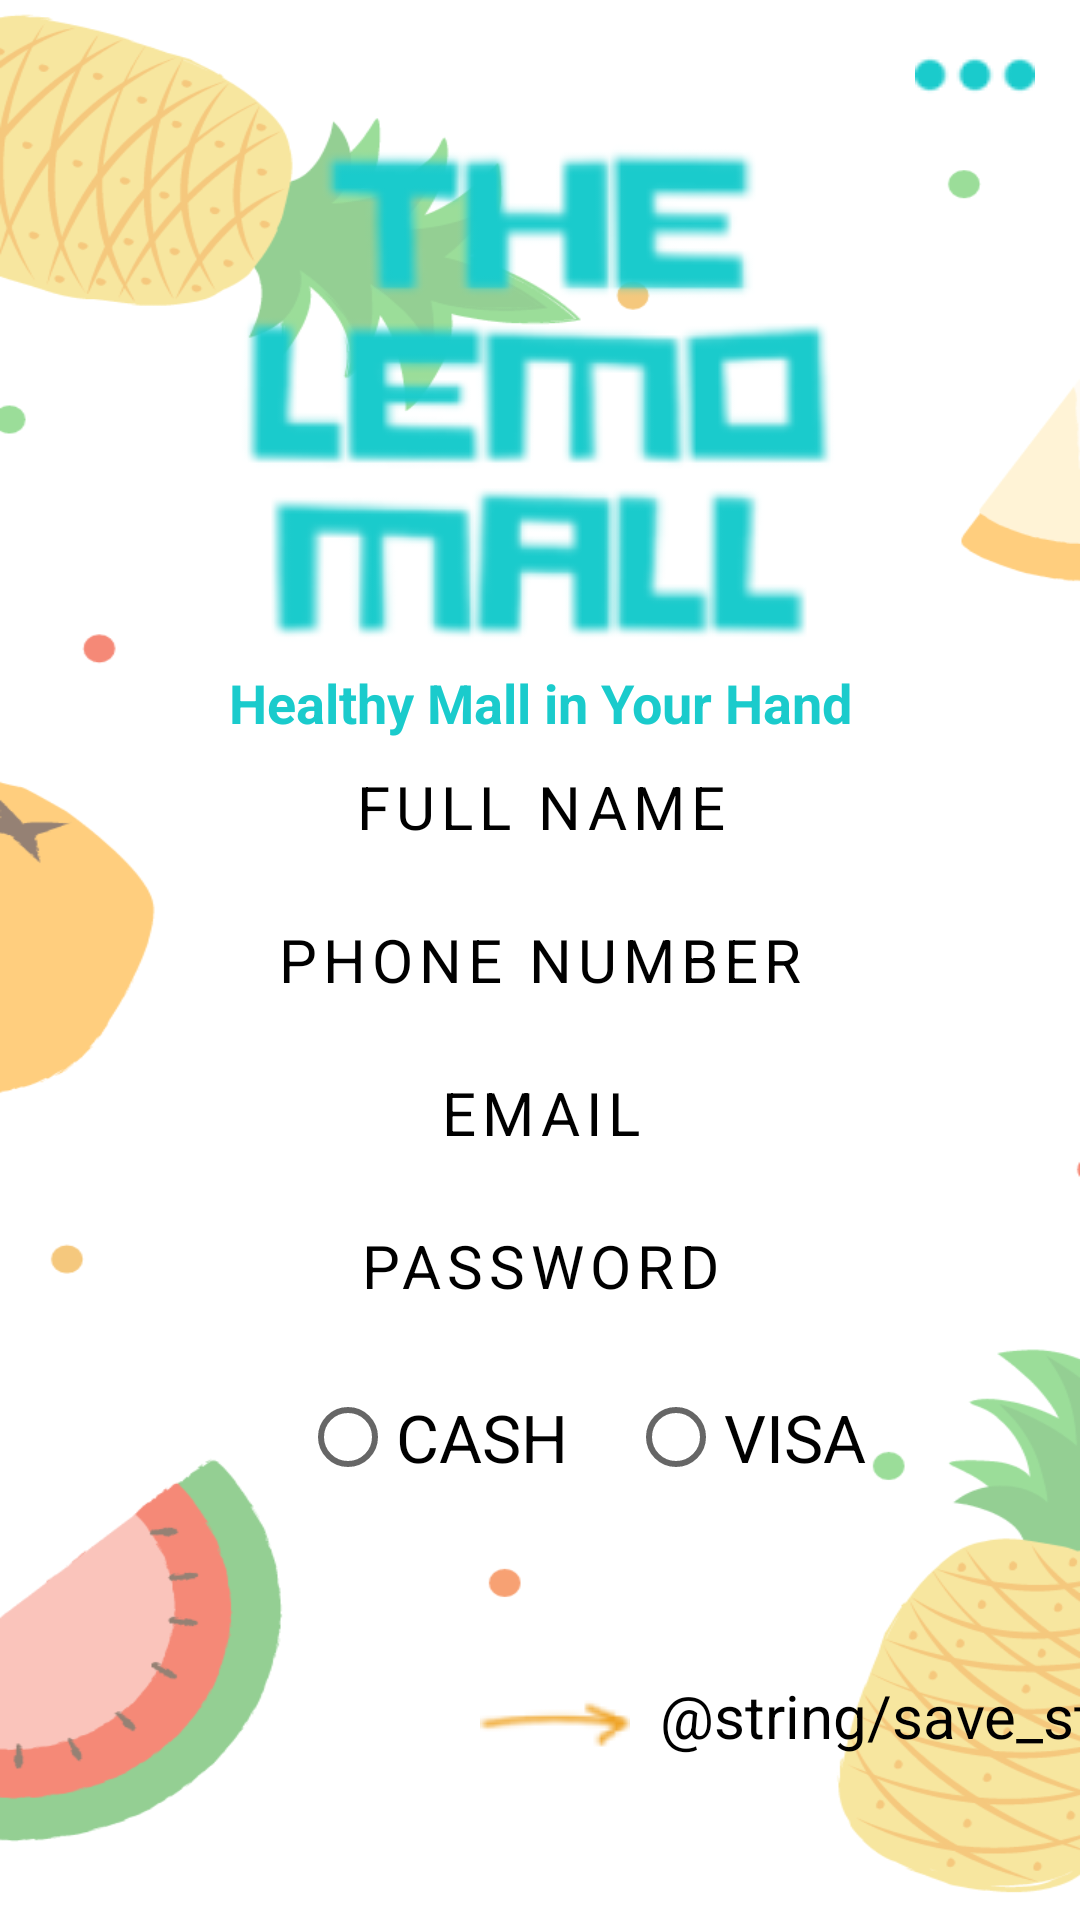

Screen size 1080w x 1920h. Icon name, then its box in pixels as (x1, y1, x2, y2):
more option: (915, 59, 1035, 91)
